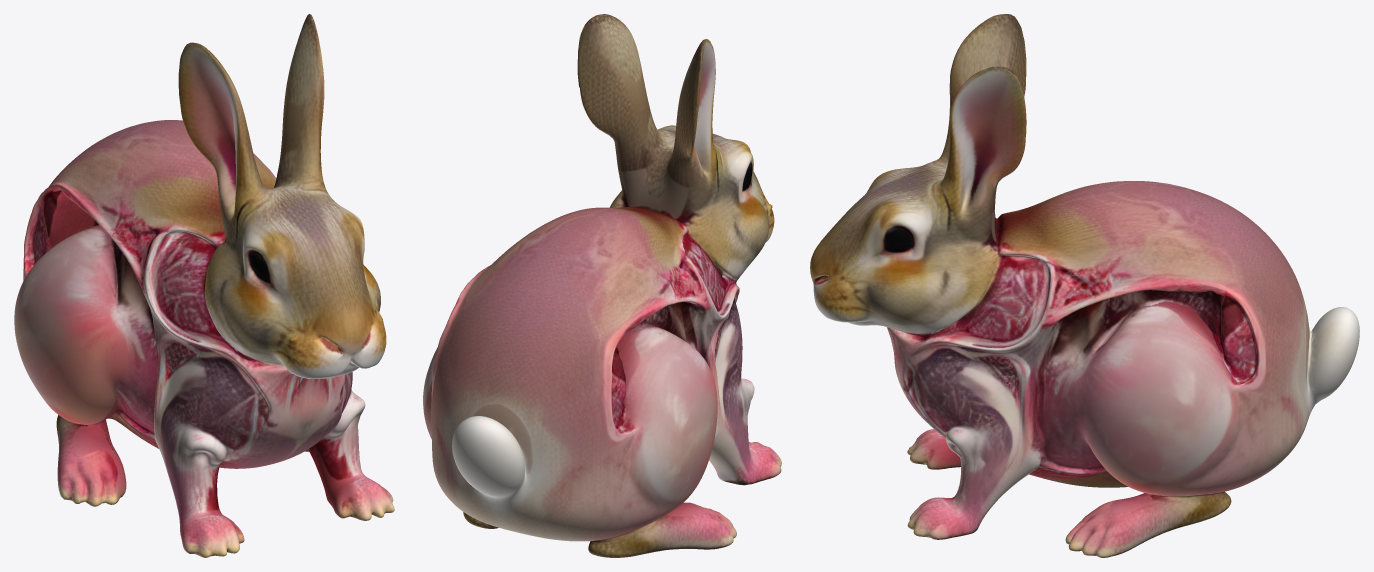
Rendered from vet_v2_path_gi-stasis-rabbit.glb.
The picture shows the model from 3 angles, left to right: view 1: azimuth 30°, elevation 25°; view 2: azimuth 150°, elevation 25°; view 3: azimuth 270°, elevation 25°; orthographic projection. The views are drawn at different scales.
Visible parts, largest first — view 1: model; view 2: model; view 3: model.
Boxes of the visible parts, x1,y1,x2,y2 form: model: (14,14,394,557); model: (423,14,781,557); model: (810,14,1359,557).
Bounding box in the file's own units: 1.07 × 1.73 × 1.9.
1 material, 1 textured.
